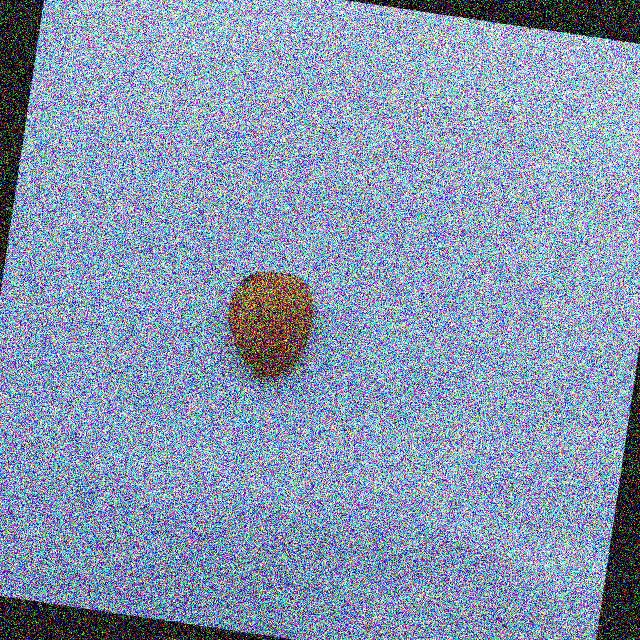grade1: (212, 258, 330, 393)
